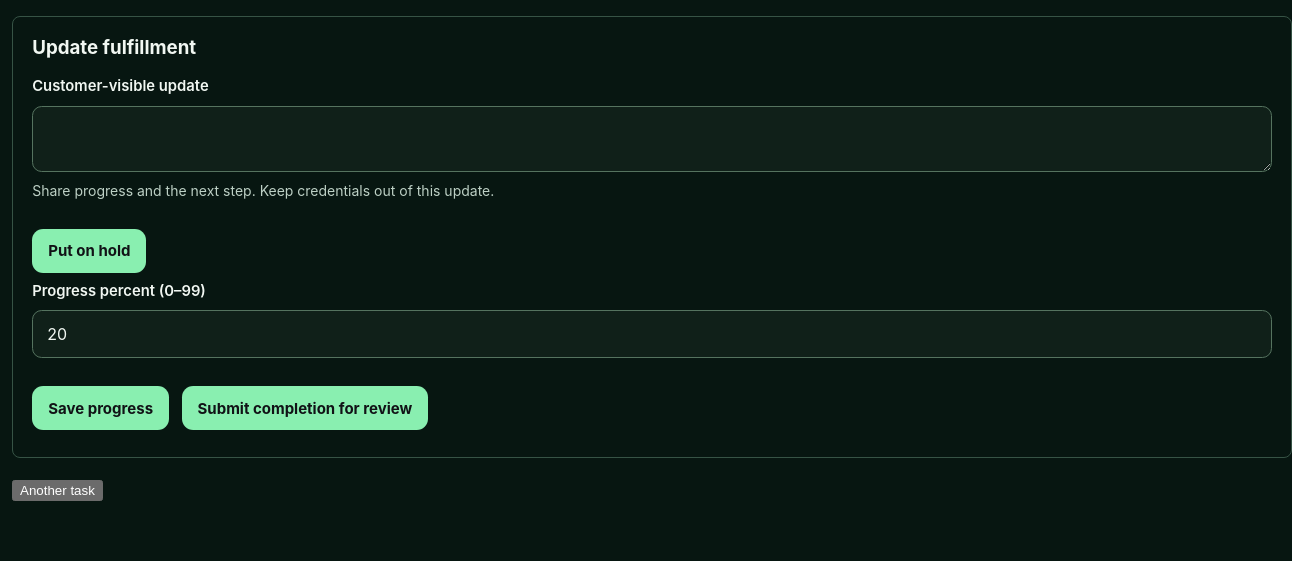
it: retains an unsuccessful update and focuses recovery without claiming success
Type "Reached the next milestone" into the text box labelled "Customer-visible update" at (652, 139), box top-left (32, 106), bottom-right (1272, 172)
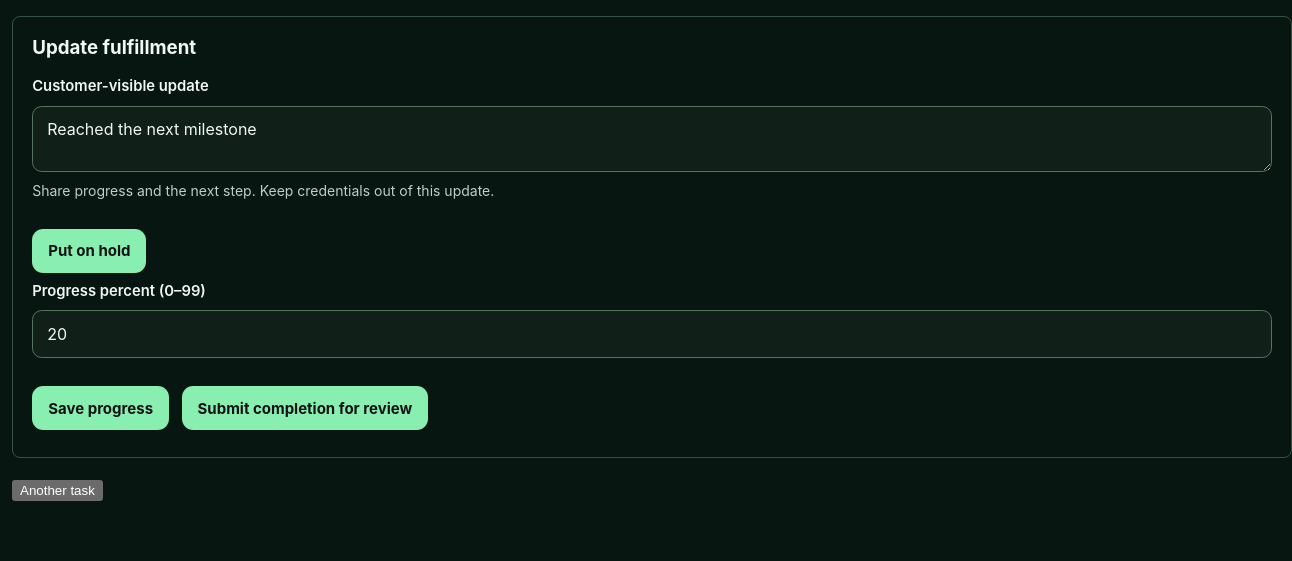
Replace the text in the field labelled "Progress percent (0–99)" with "42" at (652, 334), box top-left (32, 310), bottom-right (1272, 358)
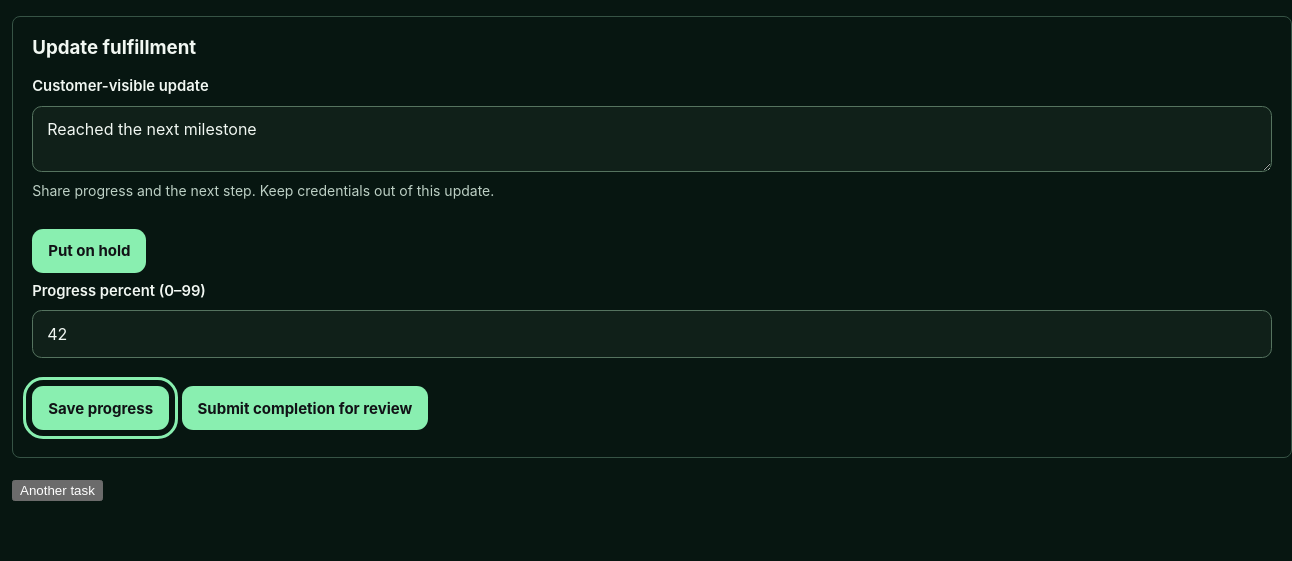
Click the button "Save progress" at (101, 408), box top-left (32, 386), bottom-right (169, 430)
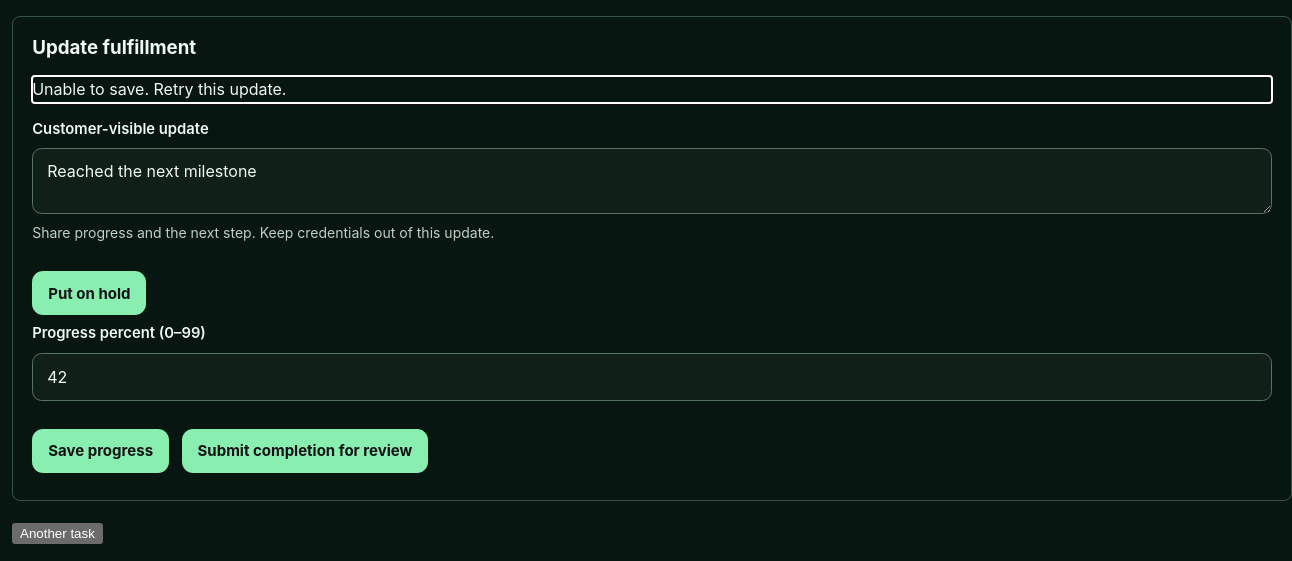
Expected: the button "Save progress" is enabled, top-left (32, 429), bottom-right (169, 473)
Result: the message shows "Unable to save" at top-left (32, 79), bottom-right (286, 99)
